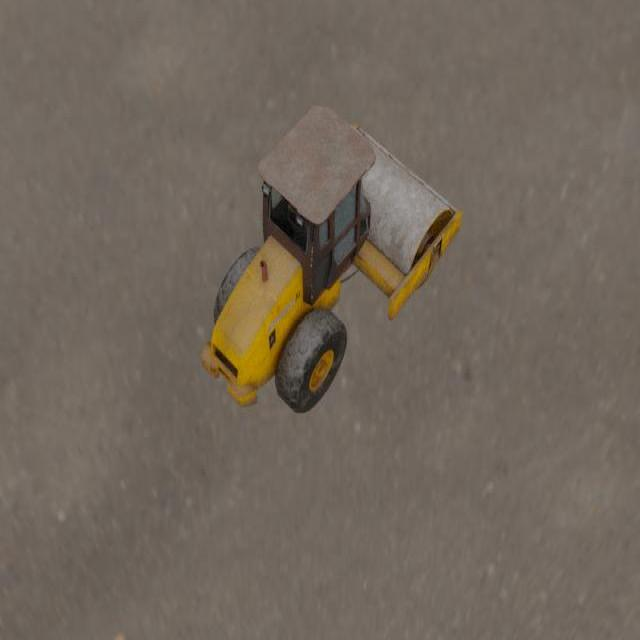Roller: (200, 104, 462, 413)
